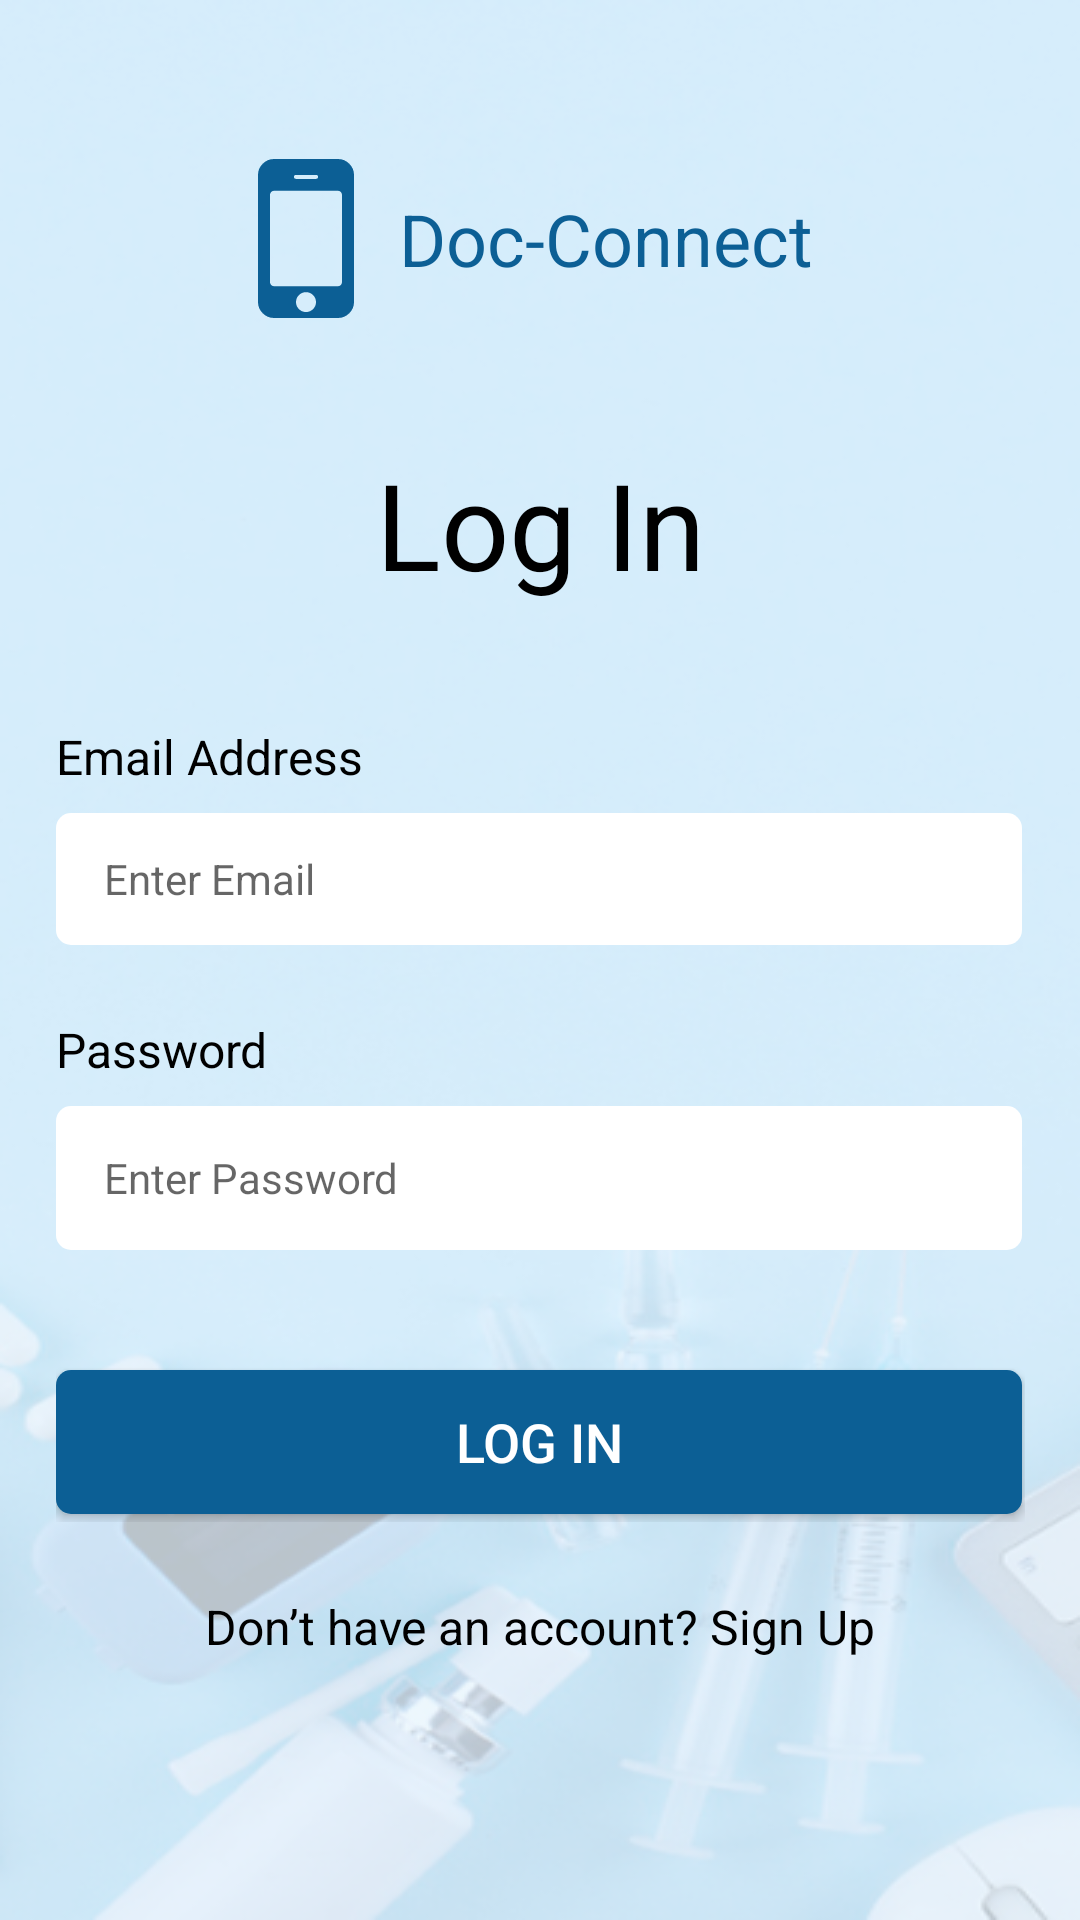

Icon click points for this 1080w x 1920h phone screenshot, format (x,y):
mobile: (306,238)
